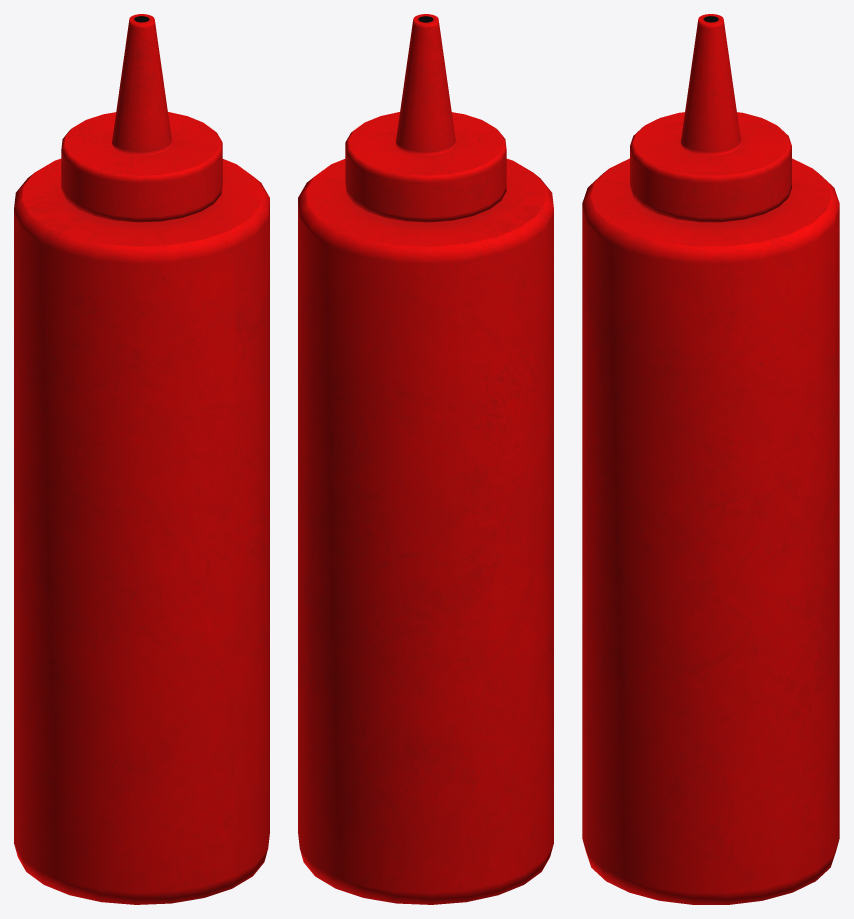
Rendered from condiment-bottle(1).FBX.
The picture shows the model from 3 angles, left to right: view 1: azimuth 30°, elevation 25°; view 2: azimuth 150°, elevation 25°; view 3: azimuth 270°, elevation 25°; orthographic projection.
Parts seen in each view (by area): view 1: condiment-bottle; view 2: condiment-bottle; view 3: condiment-bottle.
Part boxes in pixels (<box>): condiment-bottle: <box>14,14,269,904</box>; condiment-bottle: <box>298,14,553,904</box>; condiment-bottle: <box>582,14,839,904</box>.
Size of what is drawn, in the model's own units: 7.02 by 7.09 by 25.37.
